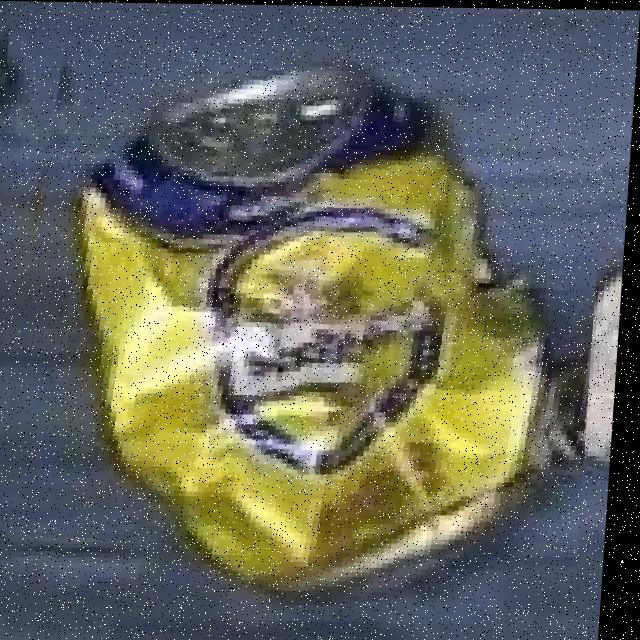can: (16, 28, 593, 618)
